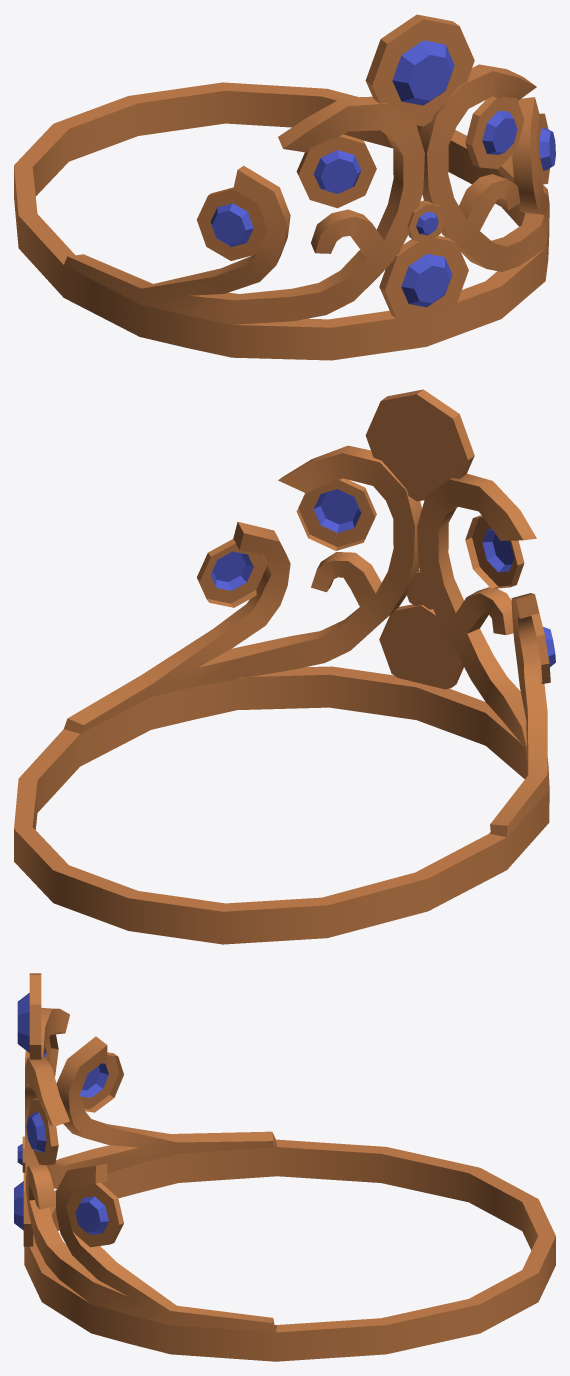
The model's file is Tiara_01.fbx.
3 renders of one model, top to bottom at view 1: azimuth 30°, elevation 25°; view 2: azimuth 150°, elevation 25°; view 3: azimuth 270°, elevation 25°, orthographic. The views are drawn at different scales.
Visible parts, largest first — view 1: Tiara_01; view 2: Tiara_01; view 3: Tiara_01.
Part boxes in pixels (x1,y1,x2,y2): Tiara_01: [14, 14, 555, 360]; Tiara_01: [14, 389, 555, 944]; Tiara_01: [14, 973, 555, 1361].
Bounding box in the file's own units: 0.214 × 0.1501 × 0.254.
